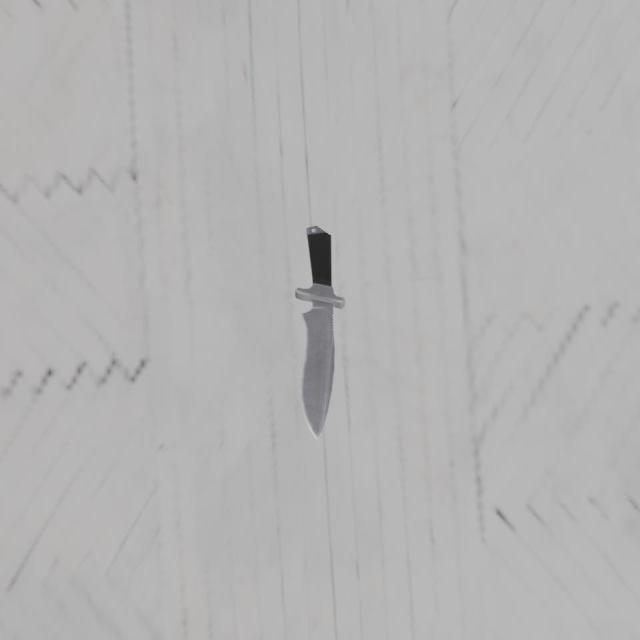knife: (305, 213, 332, 292)
